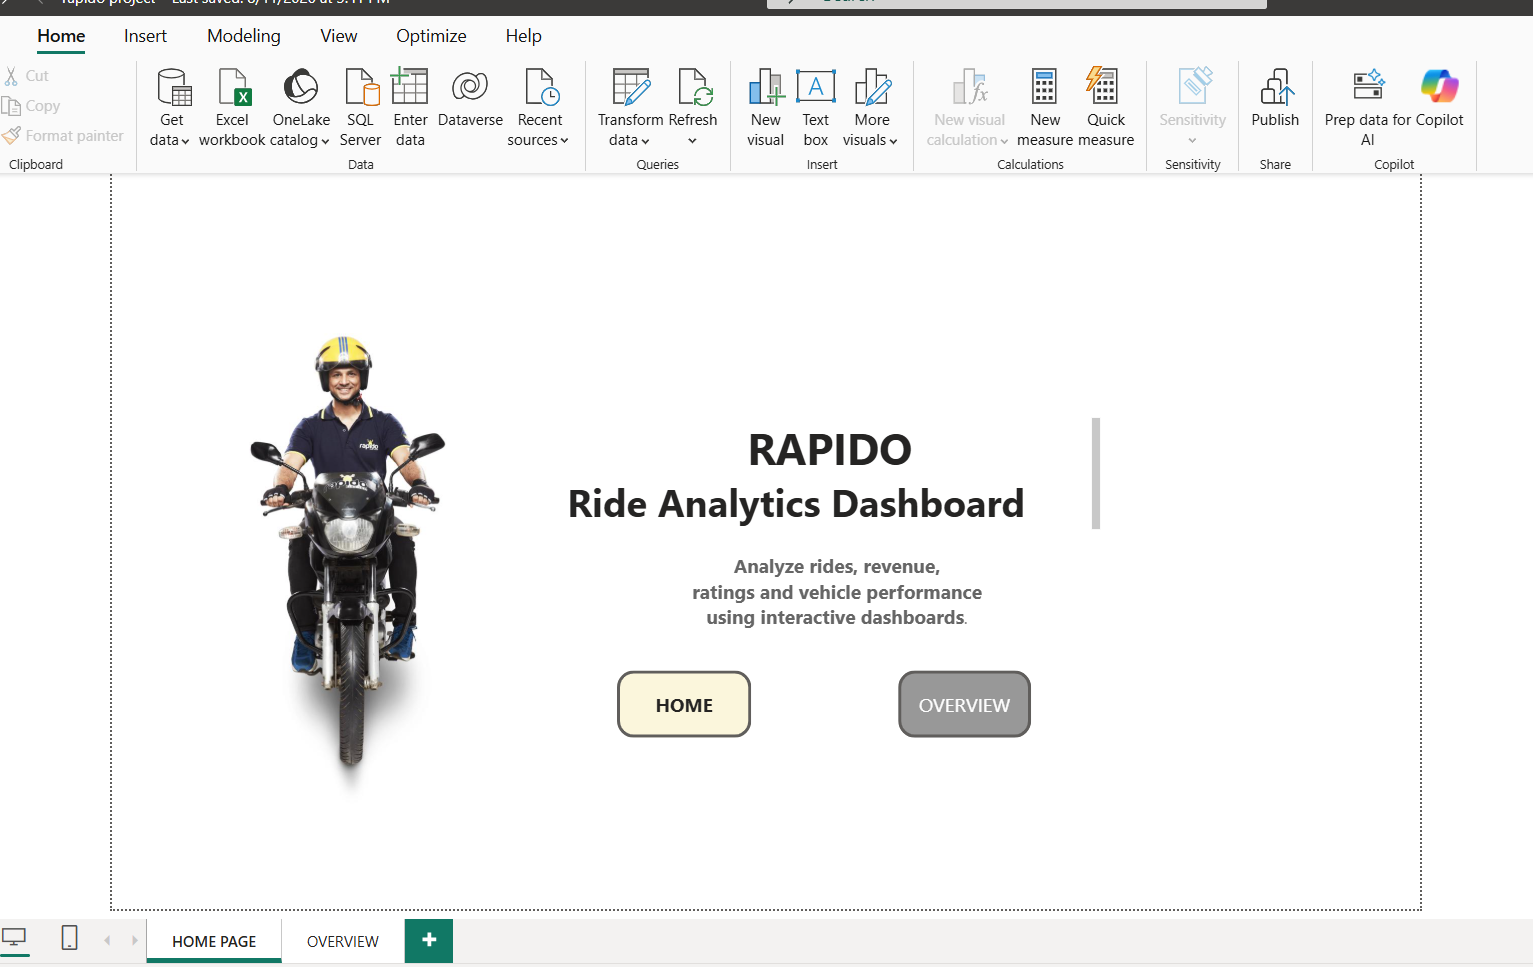

The page's visual inventory and layout, read from the dashboard file:
{"tool":"powerbi","page":{"name":"HOME PAGE","canvas":[1280,720],"ordinal":0},"visuals":[{"type":"image","box":[35.7,132.9,404.3,504.3],"z":0},{"type":"textbox","box":[440,234.3,531.4,125.7],"z":1000},{"type":"textbox","box":[560,367.1,298.6,120],"z":2000},{"type":"actionButton","box":[494.3,487.1,131.4,65.7],"z":3000},{"type":"actionButton","box":[768.6,487.1,130,65.7],"z":4000}]}

Visuals, with their boxes on the page's 1280x720 design canvas (x1, y1, x2, y2). These are canvas units, not pixel positions in the 1533x967 screenshot, which may show the page scaled, cropped or inside an application window:
image: BBox(36, 133, 440, 637)
textbox: BBox(440, 234, 971, 360)
textbox: BBox(560, 367, 859, 487)
actionButton: BBox(494, 487, 626, 553)
actionButton: BBox(769, 487, 899, 553)
